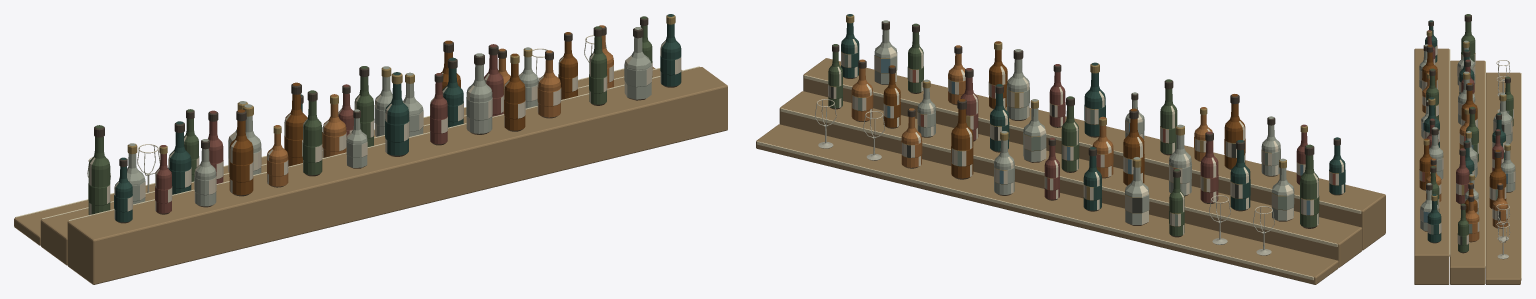
File: bottles.glb
The picture shows the model from 3 angles, left to right: view 1: azimuth 30°, elevation 25°; view 2: azimuth 150°, elevation 25°; view 3: azimuth 270°, elevation 25°; orthographic projection. The views are drawn at different scales.
Parts seen in each view (by area): view 1: MoboBottles; view 2: MoboBottles; view 3: MoboBottles.
Part boxes in pixels (x1,y1,x2,y2): MoboBottles: (14, 14, 727, 284); MoboBottles: (756, 14, 1385, 284); MoboBottles: (1414, 14, 1521, 284).
Size of the model in its own units: 2.85 by 0.5452 by 0.6259.
